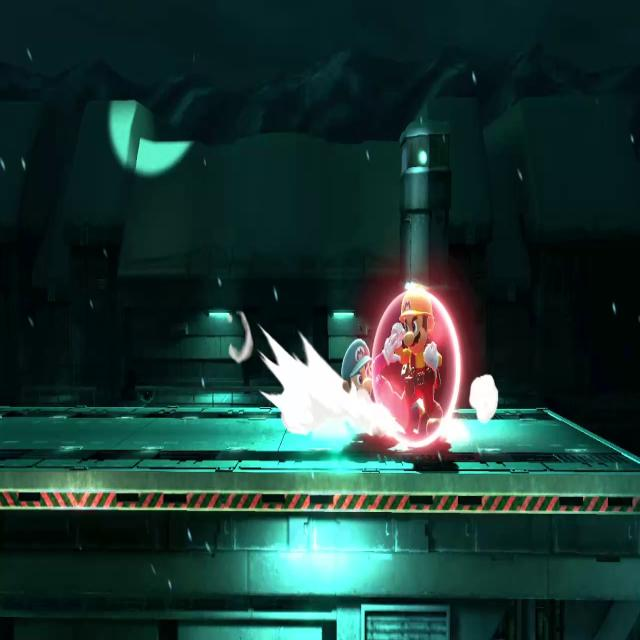Mario-DA: (326, 331, 421, 446)
Mario-guard: (388, 283, 447, 441)
